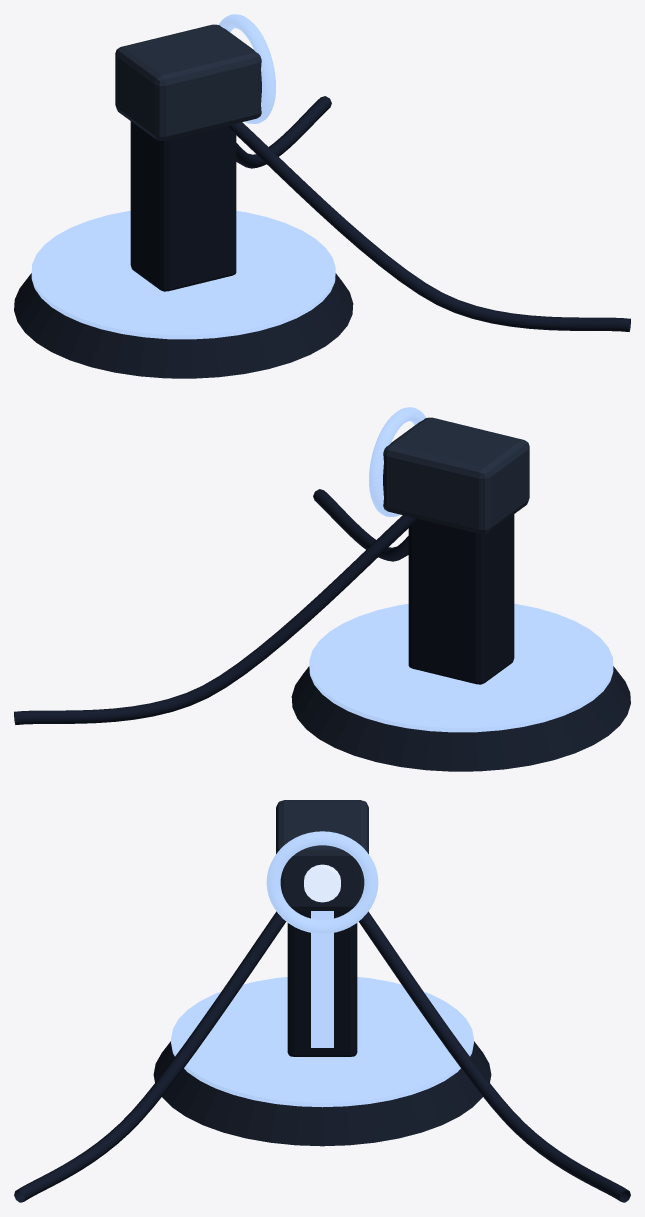
The model's file is wired_node.glb.
3 views of the same model, one above another, from view 1: azimuth 30°, elevation 25°; view 2: azimuth 150°, elevation 25°; view 3: azimuth 270°, elevation 25° (orthographic).
Visible parts, largest first — view 1: PlinthGlow, Column, Plinth, Head, ChargeCables, TerminalRing; view 2: PlinthGlow, Column, Plinth, Head, ChargeCables, TerminalRing; view 3: PlinthGlow, Plinth, ChargeCables, Head, Column, TerminalRing, ColumnStrip, TerminalCore.
Boxes of the visible parts, <box> form: PlinthGlow: <box>31,210,335,339</box>; Column: <box>130,121,236,291</box>; Plinth: <box>14,273,353,378</box>; Head: <box>115,24,261,140</box>; ChargeCables: <box>229,96,630,331</box>; TerminalRing: <box>219,14,275,123</box>; PlinthGlow: <box>309,603,613,732</box>; Column: <box>408,514,514,684</box>; Plinth: <box>291,666,630,771</box>; Head: <box>383,417,529,533</box>; ChargeCables: <box>14,489,415,724</box>; TerminalRing: <box>369,407,425,516</box>; PlinthGlow: <box>171,977,473,1107</box>; Plinth: <box>153,1041,491,1146</box>; ChargeCables: <box>14,911,630,1202</box>; Head: <box>276,800,368,910</box>; Column: <box>287,911,357,1056</box>; TerminalRing: <box>266,831,378,933</box>; ColumnStrip: <box>311,911,333,1047</box>; TerminalCore: <box>304,864,340,902</box>.
Size of the model in its own units: 4.39 by 2.58 by 5.3.
